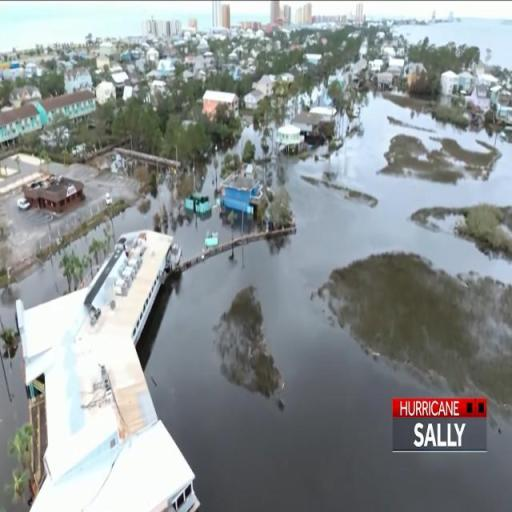flood: (136, 98, 512, 512), (1, 186, 170, 328), (0, 347, 28, 512), (176, 210, 254, 258), (228, 129, 266, 159), (200, 154, 224, 196)
house: (56, 229, 180, 351), (223, 171, 270, 226), (26, 174, 82, 218), (0, 100, 42, 155), (41, 88, 92, 131), (300, 104, 339, 145), (200, 88, 238, 124), (438, 70, 474, 104), (276, 122, 305, 156), (493, 83, 512, 127)
